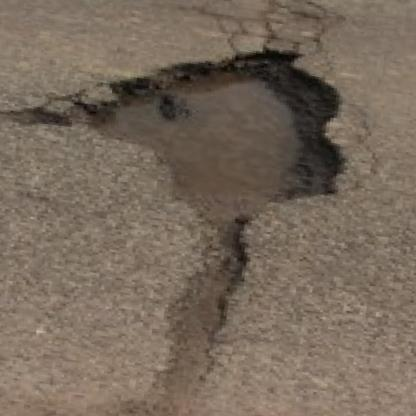pothole: (86, 32, 364, 219)
